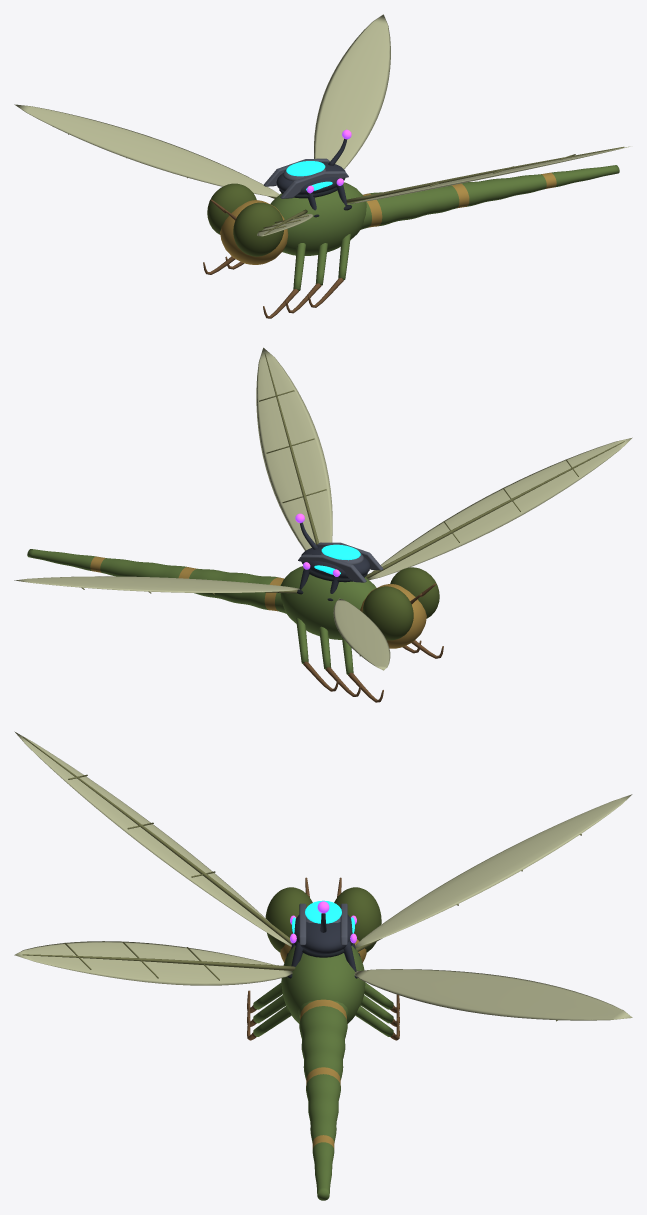
Rendered from controlled_dragonfly.glb.
3 renders of one model, top to bottom at view 1: azimuth 30°, elevation 25°; view 2: azimuth 150°, elevation 25°; view 3: azimuth 270°, elevation 25°, orthographic. The views are drawn at different scales.
Parts seen in each view (by area): view 1: FlightWing_1_HindGeometry, FlightWing_1_ForeGeometry, SegmentedAbdomen, Thorax, AlienControlDeviceGeometry, CompoundEye_-1, FlightWing_-1_HindGeometry, CompoundEye_1, Head, Leg_-1_0Geometry, Leg_-1_2Geometry, Leg_-1_1Geometry (+1 smaller); view 2: FlightWing_-1_HindGeometry, FlightWing_-1_ForeGeometry, SegmentedAbdomen, Thorax, FlightWing_1_HindGeometry, AlienControlDeviceGeometry, FlightWing_1_ForeGeometry, CompoundEye_1, CompoundEye_-1, Head, Leg_1_2Geometry, Leg_1_1Geometry (+1 smaller); view 3: FlightWing_1_HindGeometry, FlightWing_-1_HindGeometry, SegmentedAbdomen, FlightWing_1_ForeGeometry, FlightWing_-1_ForeGeometry, Thorax, AlienControlDeviceGeometry, CompoundEye_1, CompoundEye_-1.
Boxes of the visible parts, x1,y1,x2,y2 form: FlightWing_1_HindGeometry: (314,14,390,169); FlightWing_1_ForeGeometry: (14,104,279,198); SegmentedAbdomen: (360,165,619,229); Thorax: (270,182,366,255); AlienControlDeviceGeometry: (263,129,351,217); CompoundEye_-1: (233,202,283,256); FlightWing_-1_HindGeometry: (346,146,630,204); CompoundEye_1: (207,183,256,234); Head: (220,200,288,264); Leg_-1_0Geometry: (263,243,305,318); Leg_-1_2Geometry: (307,234,350,307); Leg_-1_1Geometry: (285,243,327,313); FlightWing_-1_HindGeometry: (256,347,332,550); FlightWing_-1_ForeGeometry: (365,437,632,579); SegmentedAbdomen: (27,549,286,613); Thorax: (280,566,376,639); FlightWing_1_HindGeometry: (14,576,299,594); AlienControlDeviceGeometry: (295,513,383,600); FlightWing_1_ForeGeometry: (333,598,390,670); CompoundEye_1: (362,586,413,640); CompoundEye_-1: (390,567,439,618); Head: (360,584,426,648); Leg_1_2Geometry: (296,617,339,691); Leg_1_1Geometry: (319,626,361,696); FlightWing_1_HindGeometry: (354,969,632,1021); FlightWing_-1_HindGeometry: (14,941,295,985); SegmentedAbdomen: (298,999,348,1200); FlightWing_1_ForeGeometry: (355,794,632,951); FlightWing_-1_ForeGeometry: (14,731,292,946); Thorax: (281,945,365,1023); AlienControlDeviceGeometry: (286,900,360,978); CompoundEye_1: (334,887,381,952); CompoundEye_-1: (265,887,312,952).
Bounding box in the file's own units: 2.77 × 0.9779 × 2.5.
